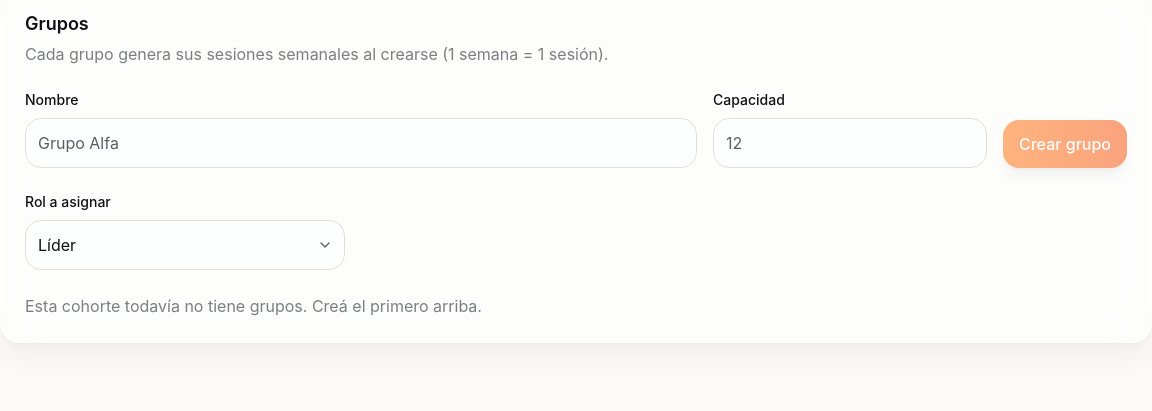
Test case: GruposSection — create grupo (PR F) › POSTs the grupo and surfaces the generated-session count
This screenshot has width=1152, height=411.
expect the text "todavía no tiene grupos" is shown: met, box top-left (25, 296), bottom-right (482, 316)
Type "Grupo Beta" into the field labelled "Nombre" at (361, 143), box top-left (25, 118), bottom-right (697, 168)
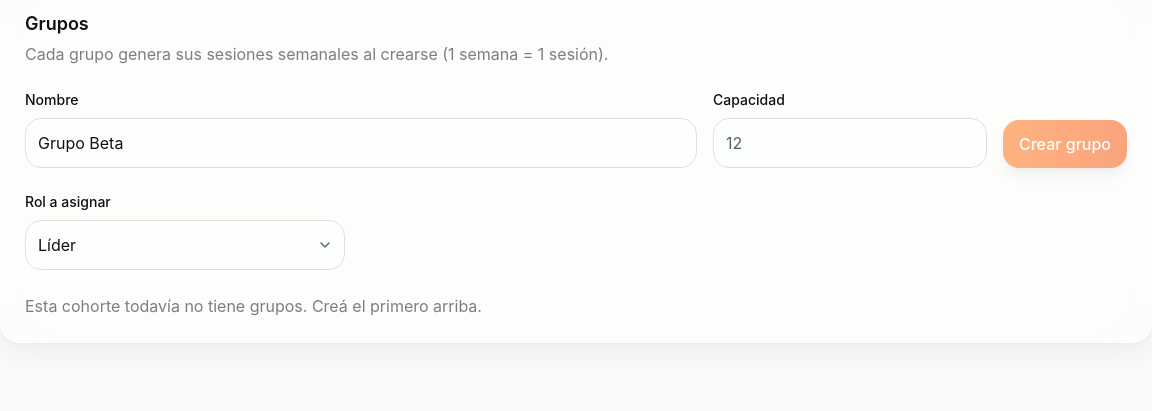
Type "10" into the number field labelled "Capacidad" at (850, 143), box top-left (713, 118), bottom-right (987, 168)
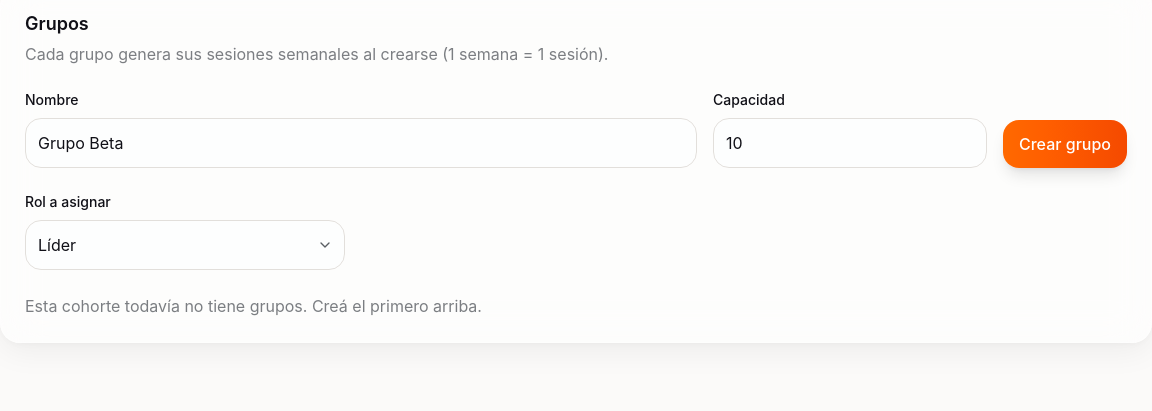
Click the button "Crear grupo" at (1065, 144), box top-left (1003, 120), bottom-right (1127, 168)
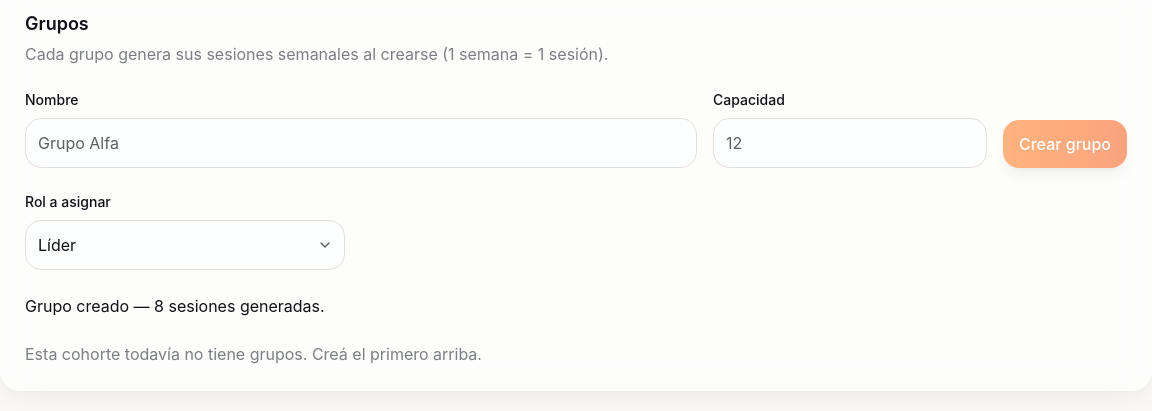
expect the text "Grupo creado — 8 sesiones generadas." is shown: met, box top-left (25, 296), bottom-right (325, 316)
